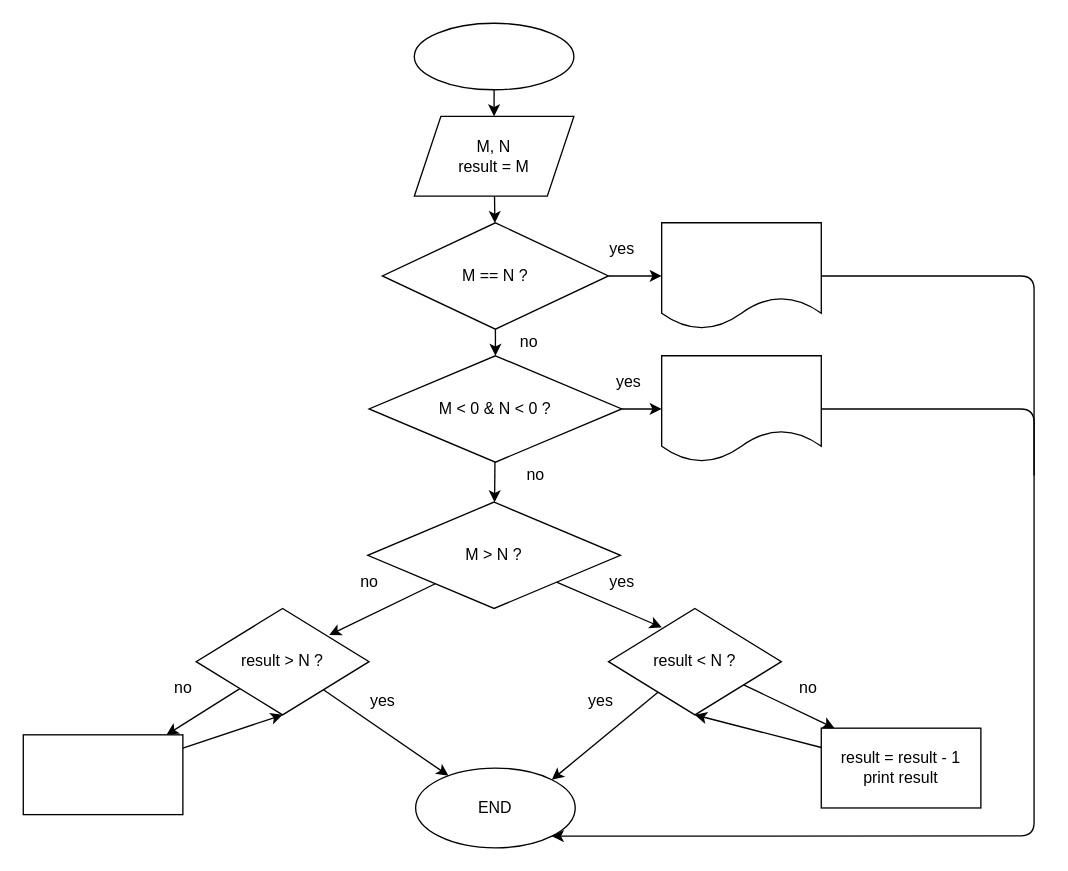
This 1068x871 diagram has some shape labels left out. Here are the shapes that lost their labels. From the top down, the centre of each, then its label:
At (x=493, y=56): "START".
At (x=740, y=275): "NOTHING".
At (x=740, y=408): "ERROR".
At (x=102, y=774): "result++ print result".
